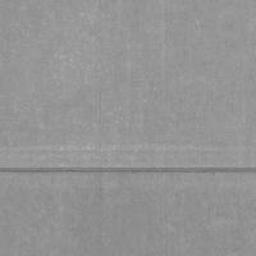Welding line: (0, 167, 256, 174)
